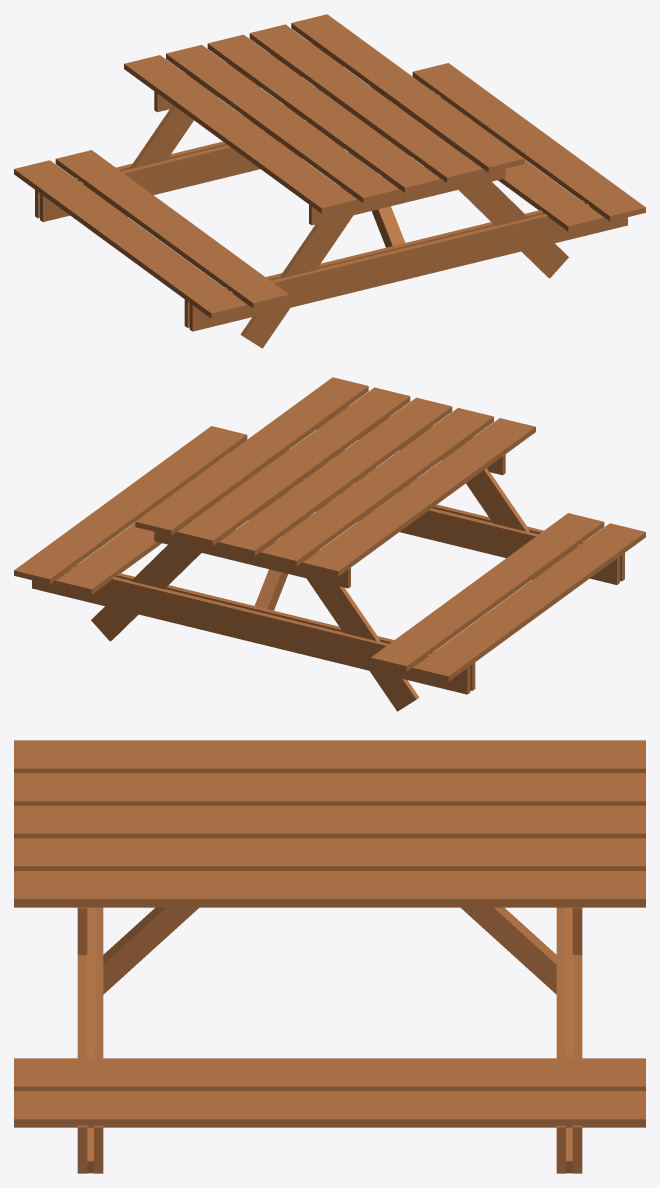
3 views of the same model, one above another, from view 1: azimuth 30°, elevation 25°; view 2: azimuth 150°, elevation 25°; view 3: azimuth 270°, elevation 25° (orthographic). The views are drawn at different scales.
Parts seen in each view (by area): view 1: picnic_table; view 2: picnic_table; view 3: picnic_table.
Part boxes in pixels (x1,y1,x2,y2): picnic_table: (14, 14, 645, 348); picnic_table: (14, 377, 645, 711); picnic_table: (14, 740, 645, 1173).
Size of the model in its own units: 1.8 by 0.582 by 1.41.
